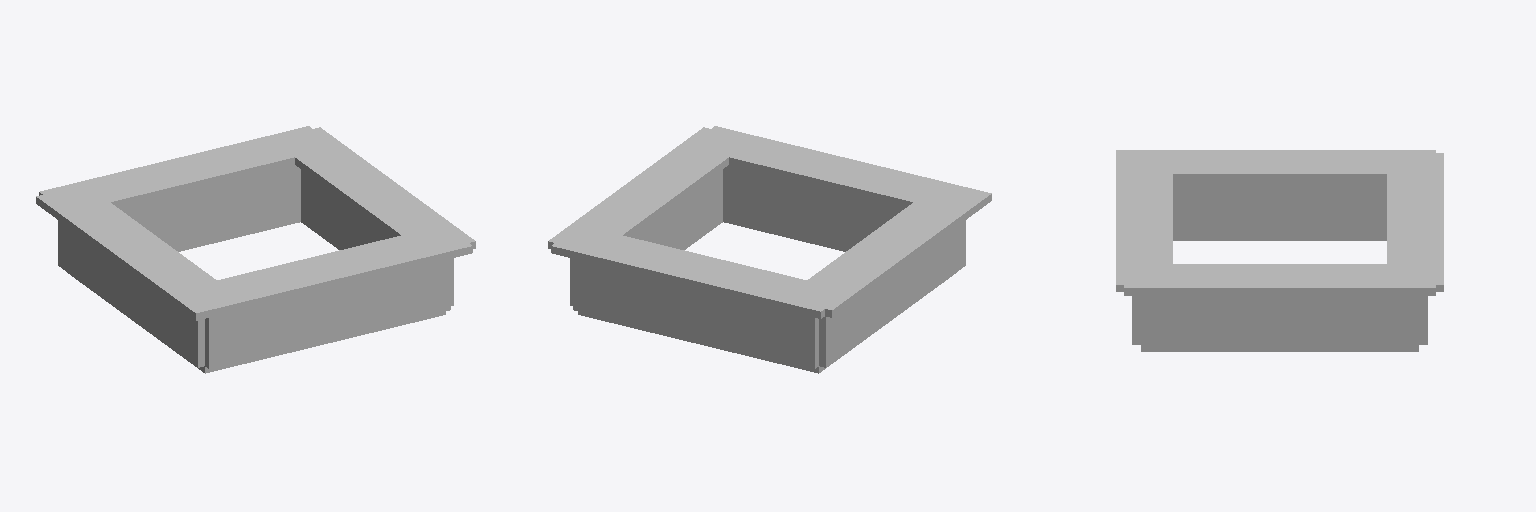
File: Mesa Bar.obj
3 views of the same model, side by side, from view 1: azimuth 30°, elevation 25°; view 2: azimuth 150°, elevation 25°; view 3: azimuth 270°, elevation 25° (orthographic).
Parts seen in each view (by area): view 1: object 1; view 2: object 1; view 3: object 1.
Part boxes in pixels (x1,y1,x2,y2): object 1: (36,126,475,373); object 1: (548,126,991,373); object 1: (1116,150,1443,351).
Bounding box in the file's own units: 4 × 1 × 4.